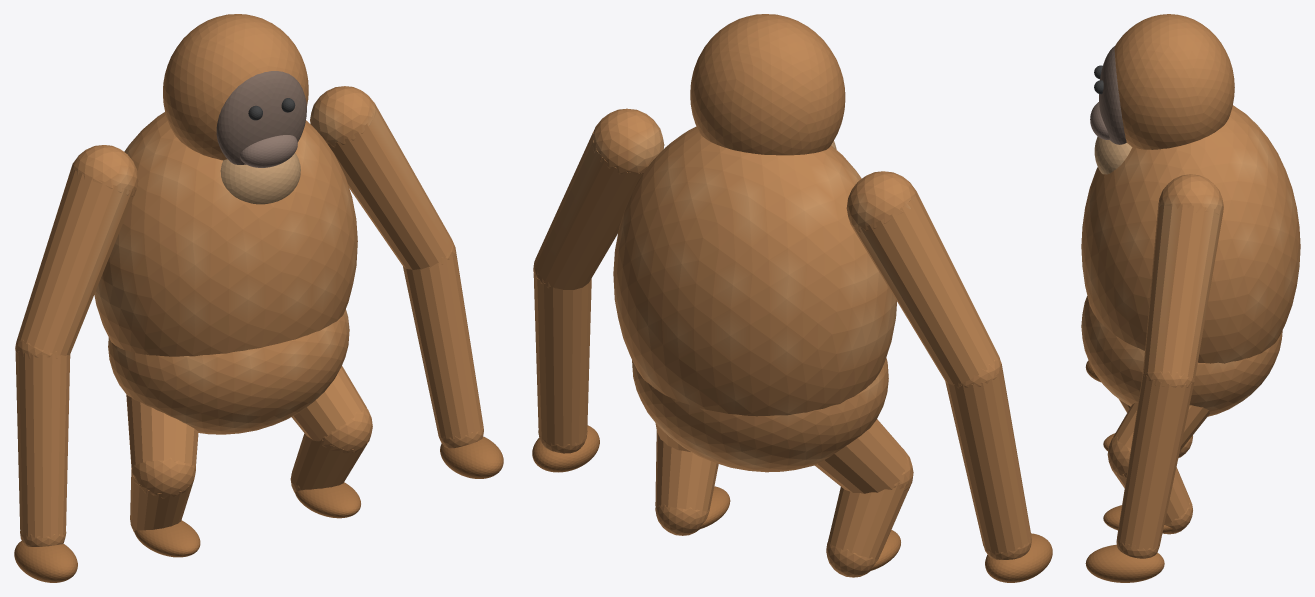
Rendered from orangutan-sumatra.glb.
3 views of the same model, side by side, from view 1: azimuth 30°, elevation 25°; view 2: azimuth 150°, elevation 25°; view 3: azimuth 270°, elevation 25° (orthographic). The views are drawn at different scales.
Visible parts, largest first — view 1: orangutan-sumatra; view 2: orangutan-sumatra; view 3: orangutan-sumatra.
Boxes of the visible parts, x1,y1,x2,y2 form: orangutan-sumatra: (14, 14, 503, 582); orangutan-sumatra: (532, 14, 1052, 582); orangutan-sumatra: (1081, 14, 1300, 582).
Bounding box in the file's own units: 1.18 × 1.2 × 0.5.
